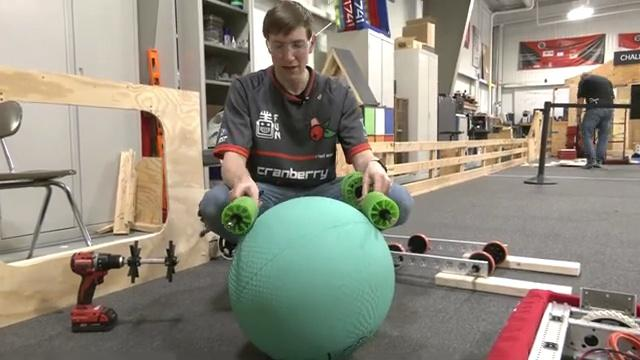ALGAE: (226, 194, 396, 358)
